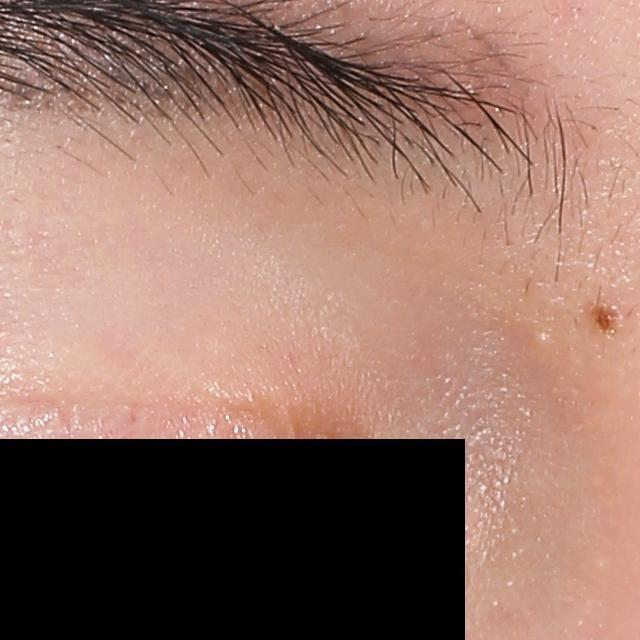nevus: (590, 304, 624, 335)
